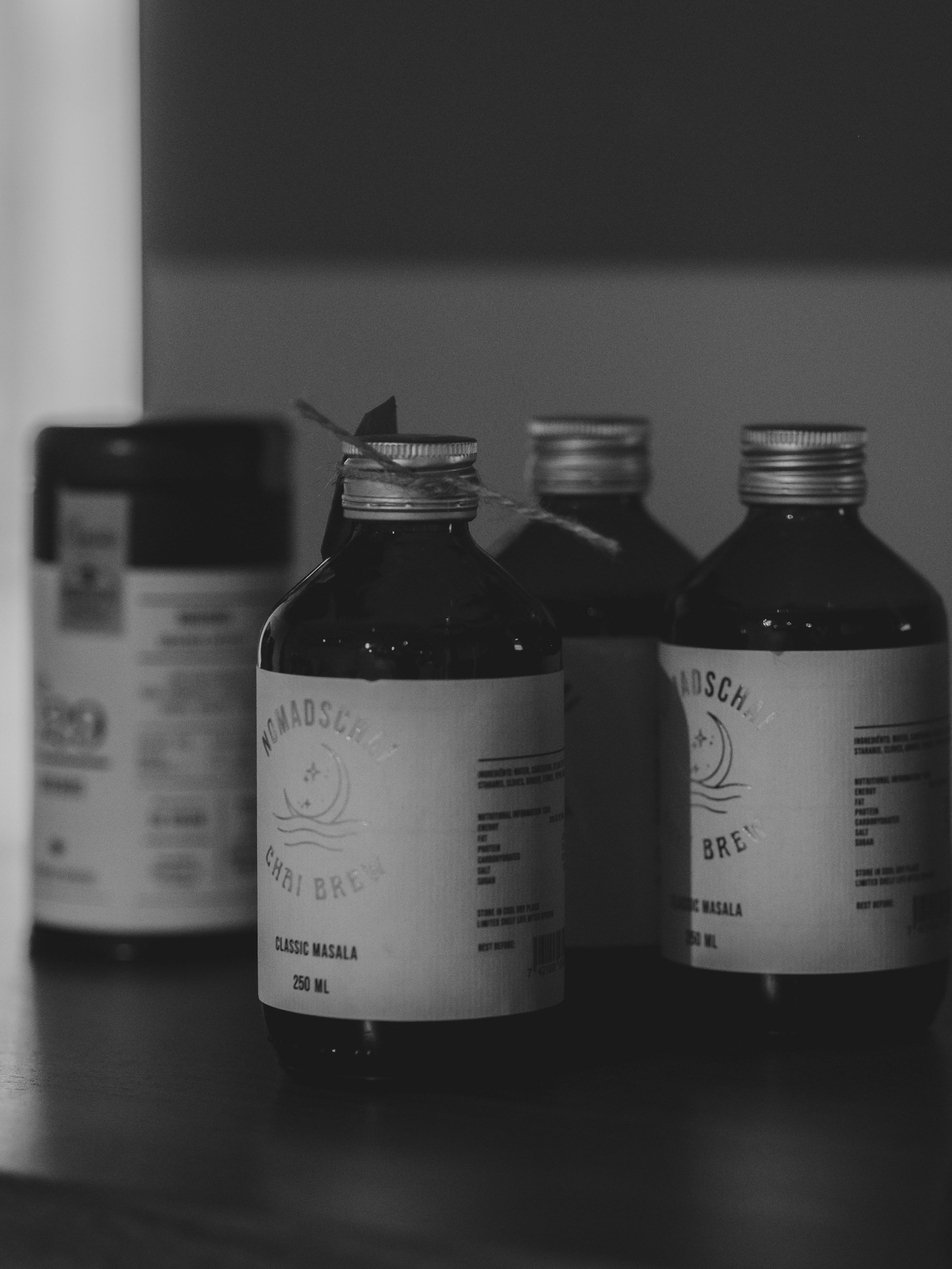Bottle-Detection: (181, 393, 614, 1094), (27, 369, 363, 1019), (647, 387, 952, 1073), (487, 339, 744, 1028)
